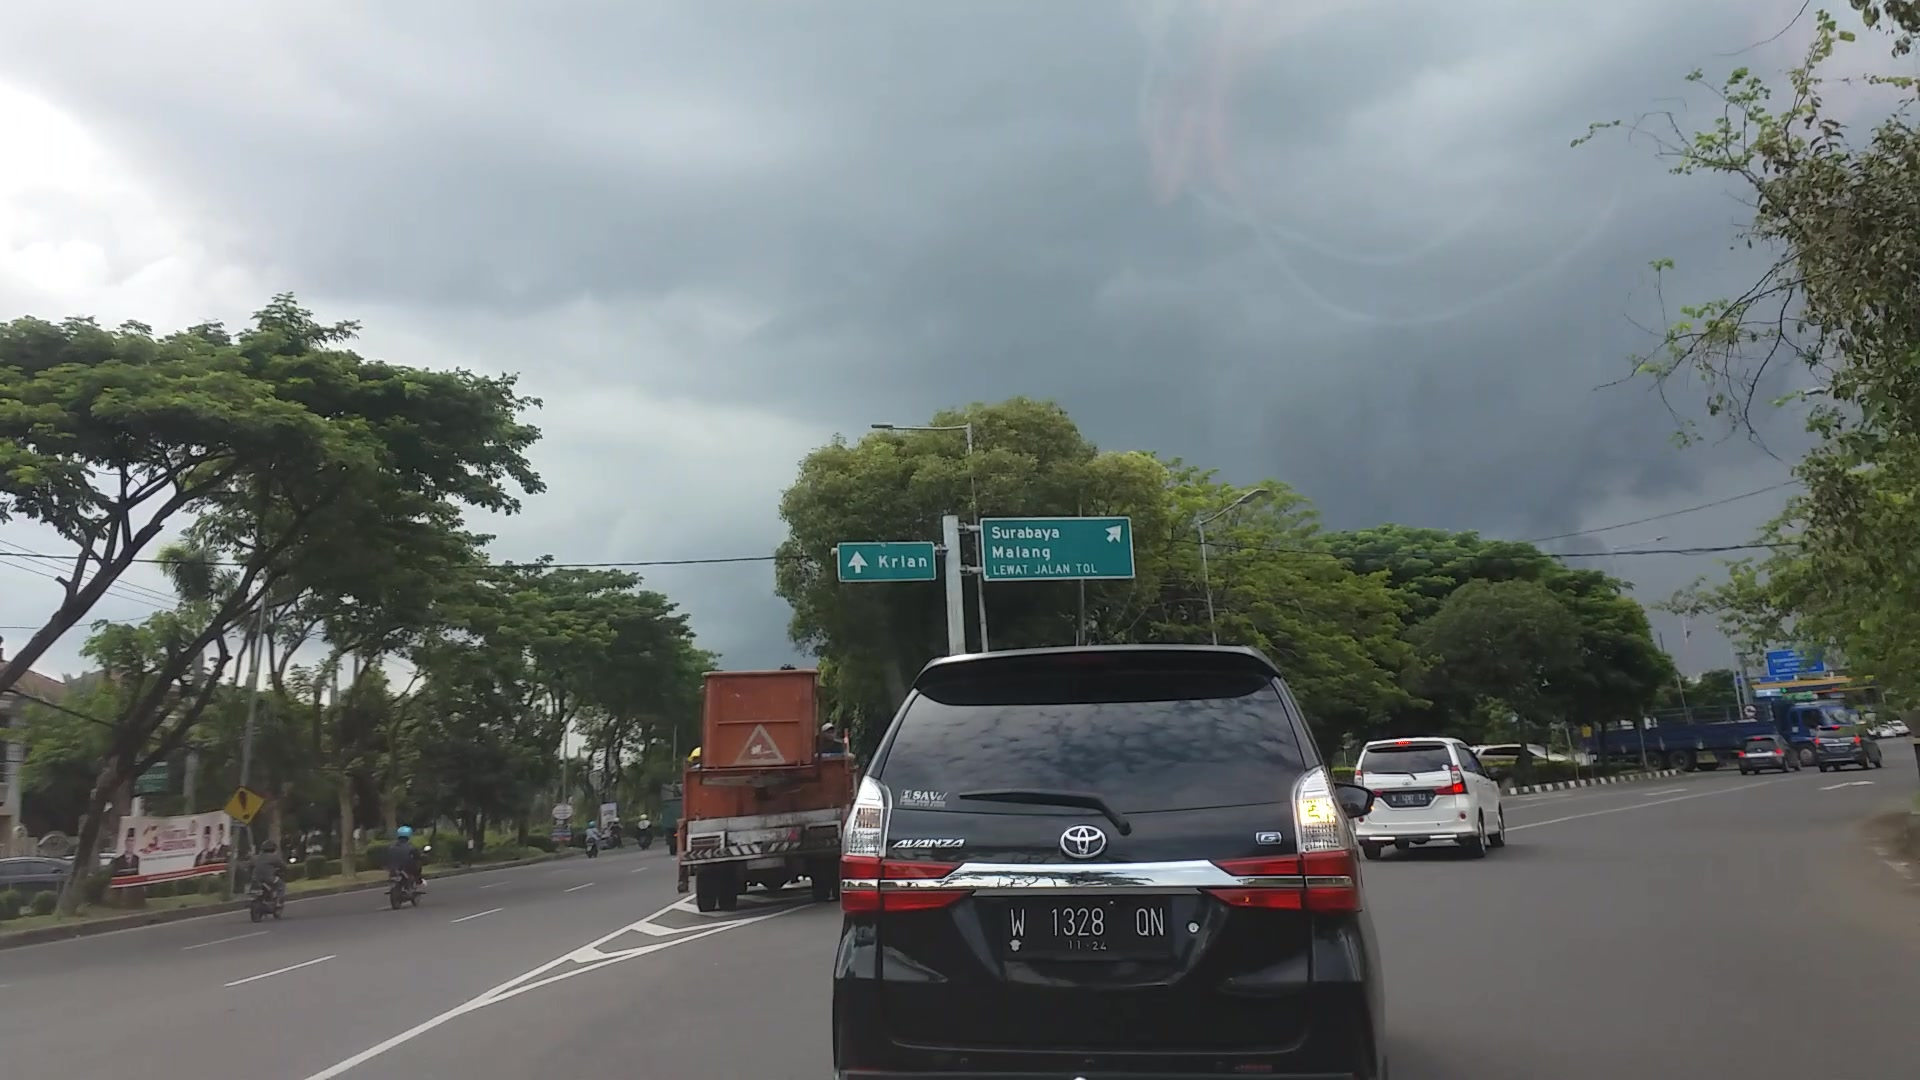plate_positive: (1005, 897, 1172, 959)
